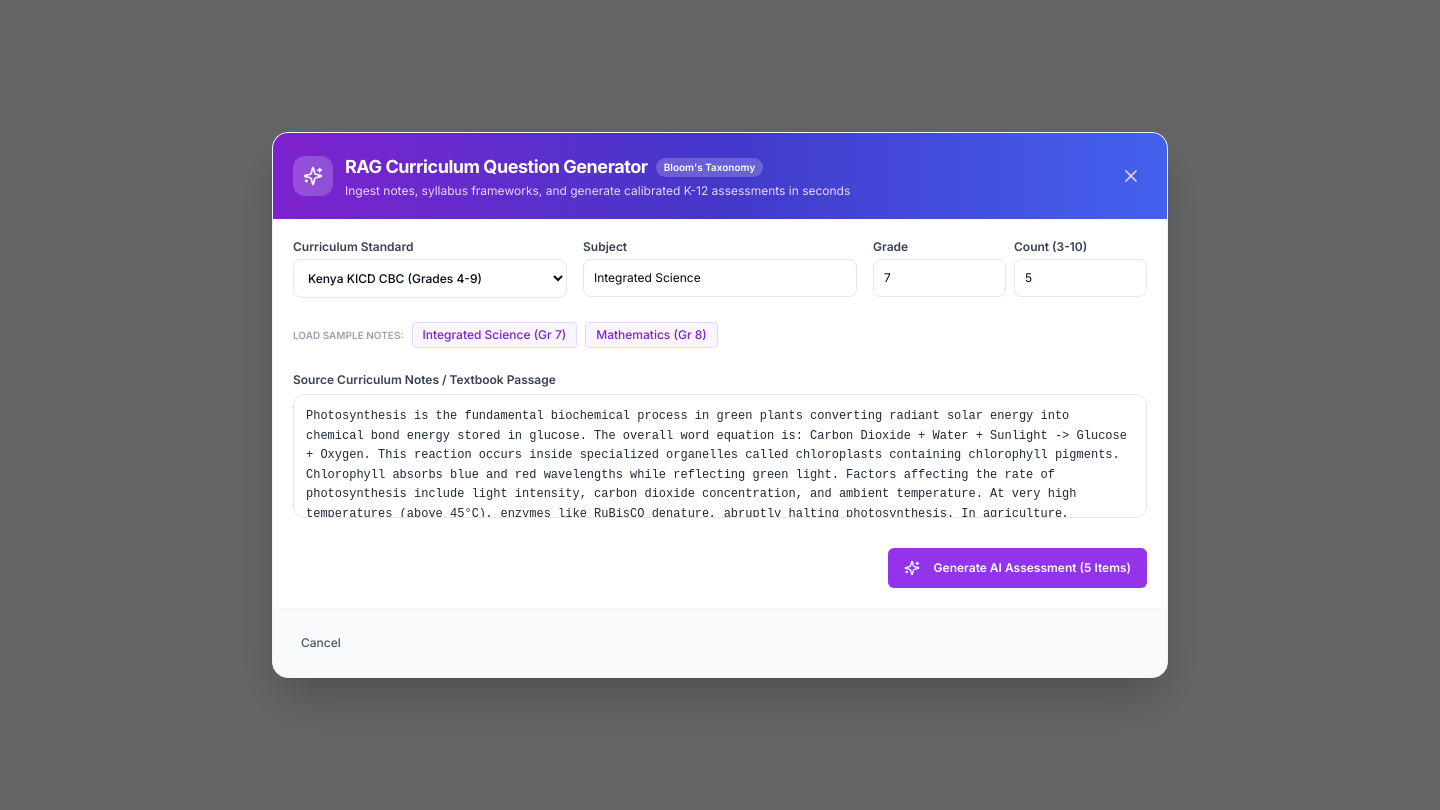
AIQuestionGeneratorModal Component › generates questions on clicking Generate AI Assessment
Click the button "Generate AI Assessment (5 Items)".
click(1017, 568)  # box [888,548,1147,588]
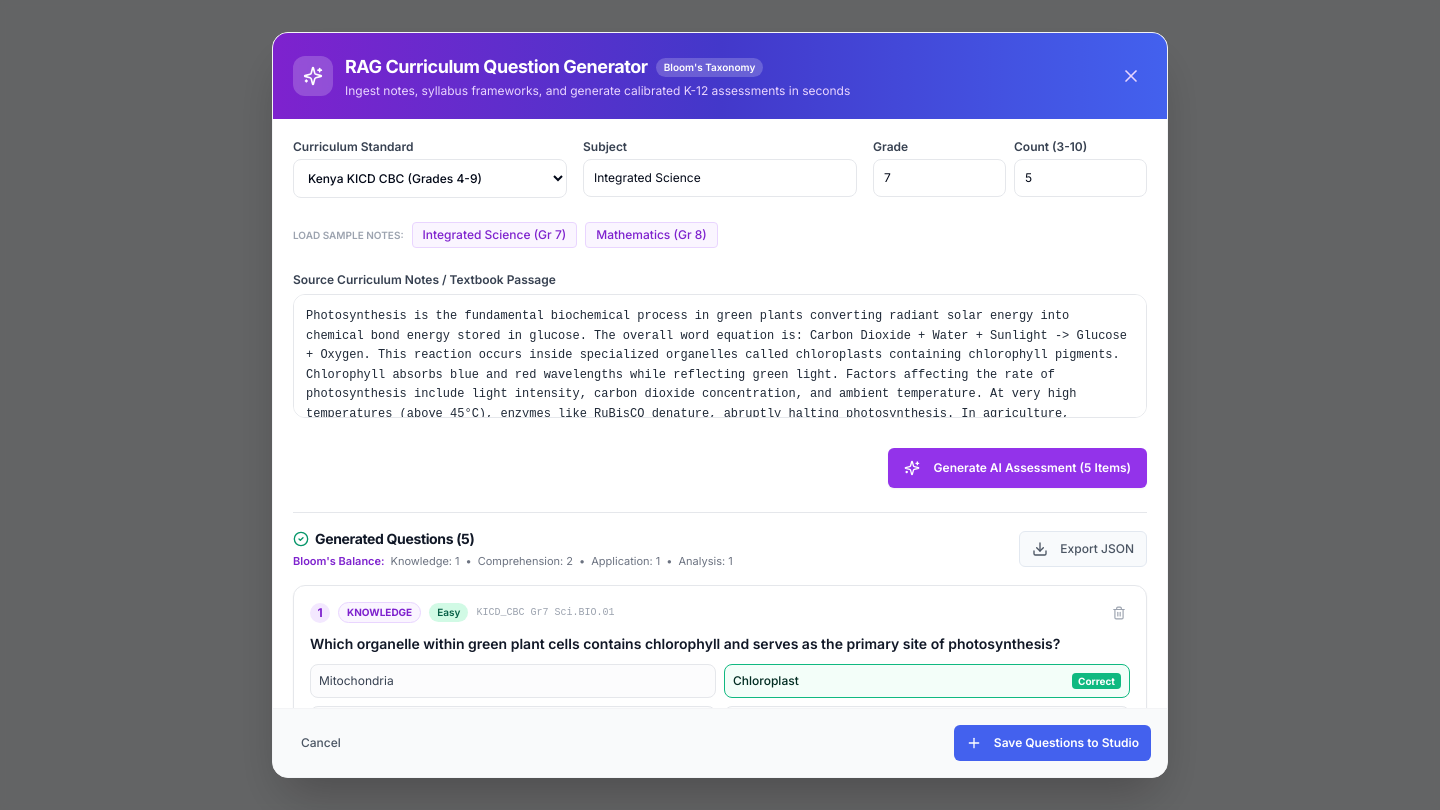
Expected: the heading "Generated Questions (5)" is shown, [293,530,474,547]
Expected: the button "Save Questions to Studio" is shown, [954,725,1151,761]
